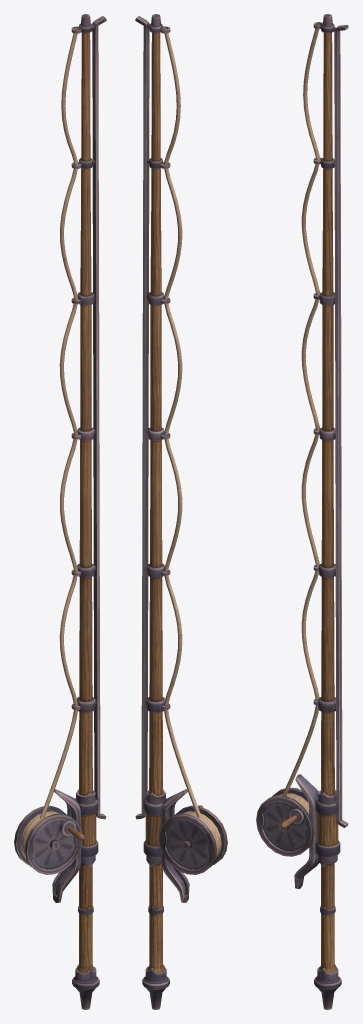
3 renders of one model, left to right at view 1: azimuth 30°, elevation 25°; view 2: azimuth 150°, elevation 25°; view 3: azimuth 330°, elevation 25°, orthographic.
Visible parts, largest first — view 1: SM_Fishing_Rod_2H_04_LOD0; view 2: SM_Fishing_Rod_2H_04_LOD0; view 3: SM_Fishing_Rod_2H_04_LOD0.
Boxes of the visible parts, x1,y1,x2,y2 form: SM_Fishing_Rod_2H_04_LOD0: (14, 14, 106, 1009); SM_Fishing_Rod_2H_04_LOD0: (135, 14, 227, 1009); SM_Fishing_Rod_2H_04_LOD0: (256, 14, 348, 1009).
Bounding box in the file's own units: 0.2412 × 2.7 × 0.1447.
Materials: 1 (1 with a texture image).
